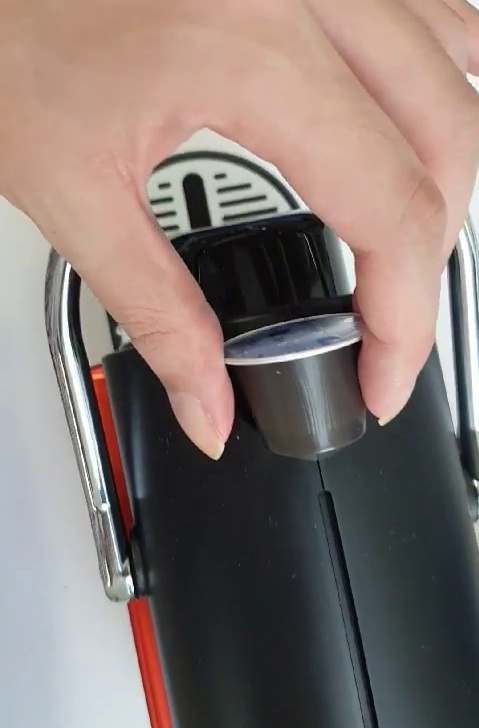capsule_4: (216, 311, 374, 468)
